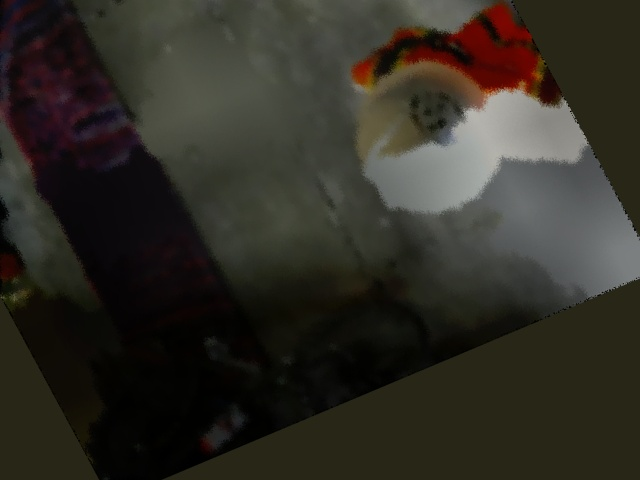eight: (402, 82, 471, 154)
